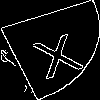X: (25, 25, 86, 79)
